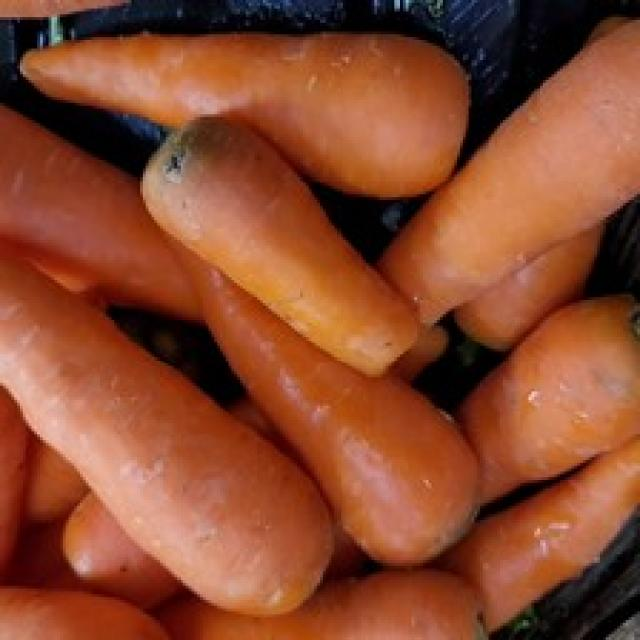Fresh_Carrot: (0, 241, 332, 619), (166, 231, 489, 558), (369, 16, 640, 330), (16, 32, 466, 192)
